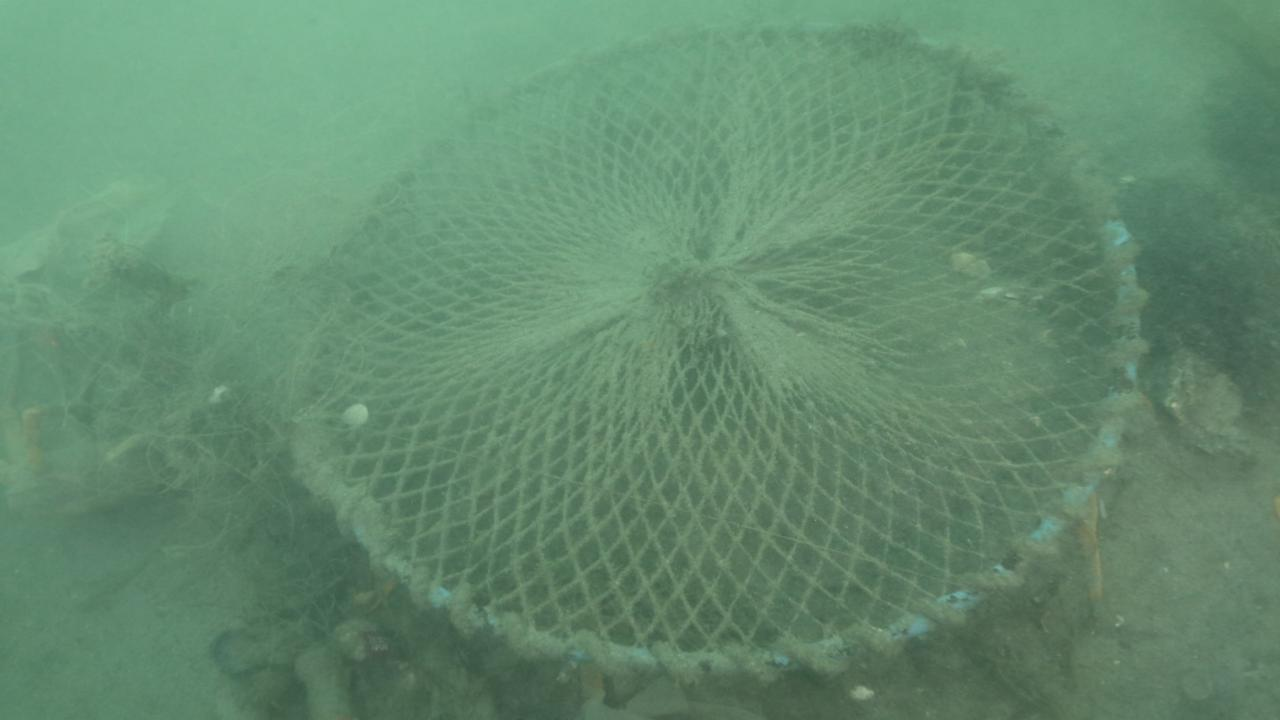circular fish trap: (274, 10, 1151, 694)
